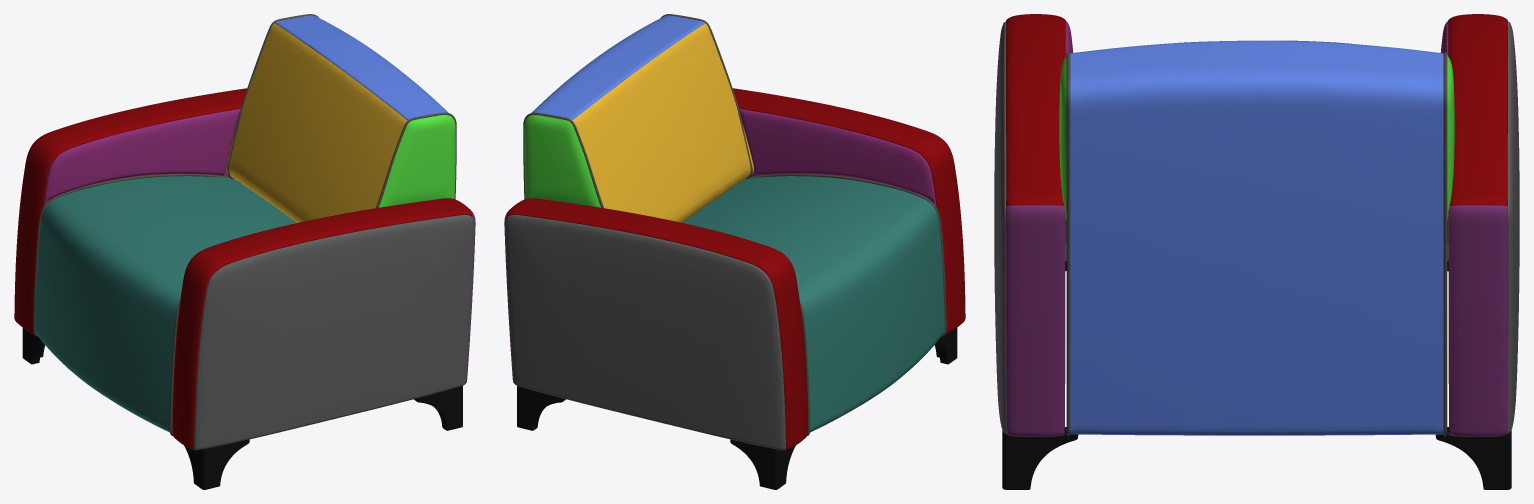
Rendered from base.v3.0adba33a.glb.
3 renders of one model, left to right at view 1: azimuth 30°, elevation 25°; view 2: azimuth 150°, elevation 25°; view 3: azimuth 270°, elevation 25°, orthographic. The views are drawn at different scales.
Parts seen in each view (by area): view 1: LATERAL_EXTERNA, ASSENTO, ENCOSTO_FRONTAL, LATERAL_TOP, LATERAL_INTERNA, ENCOSTO_TRASEIRO, ENCOSTO_LATERAL, PEZINHOS, VIVO_ASSENTO, VIVO_ENCOSTO; view 2: LATERAL_EXTERNA, ASSENTO, ENCOSTO_FRONTAL, LATERAL_TOP, LATERAL_INTERNA, ENCOSTO_TRASEIRO, ENCOSTO_LATERAL, PEZINHOS, VIVO_ASSENTO, VIVO_ENCOSTO; view 3: ENCOSTO_TRASEIRO, LATERAL_REAR, LATERAL_TOP, LATERAL_EXTERNA, PEZINHOS, VIVO_ENCOSTO, ENCOSTO_LATERAL.
Boxes of the visible parts, box(x1,y1,x2,y2) form: LATERAL_EXTERNA: box(194, 214, 474, 450); ASSENTO: box(35, 176, 296, 432); ENCOSTO_FRONTAL: box(226, 23, 407, 222); LATERAL_TOP: box(14, 88, 472, 449); LATERAL_INTERNA: box(43, 108, 240, 273); ENCOSTO_TRASEIRO: box(275, 15, 448, 120); ENCOSTO_LATERAL: box(379, 114, 455, 207); PEZINHOS: box(22, 328, 462, 489); VIVO_ASSENTO: box(33, 174, 229, 435); VIVO_ENCOSTO: box(227, 14, 456, 208); LATERAL_EXTERNA: box(505, 214, 785, 450); ASSENTO: box(683, 176, 944, 432); ENCOSTO_FRONTAL: box(572, 23, 753, 222); LATERAL_TOP: box(507, 88, 965, 449); LATERAL_INTERNA: box(739, 108, 936, 273); ENCOSTO_TRASEIRO: box(531, 15, 704, 120); ENCOSTO_LATERAL: box(524, 114, 600, 207); PEZINHOS: box(517, 328, 957, 489); VIVO_ASSENTO: box(750, 174, 946, 435); VIVO_ENCOSTO: box(523, 14, 752, 208); ENCOSTO_TRASEIRO: box(1070, 40, 1443, 435); LATERAL_REAR: box(1006, 205, 1507, 436); LATERAL_TOP: box(1006, 14, 1507, 206); LATERAL_EXTERNA: box(994, 21, 1519, 434); PEZINHOS: box(1002, 261, 1511, 489); VIVO_ENCOSTO: box(1066, 52, 1447, 436); ENCOSTO_LATERAL: box(1059, 55, 1454, 220).
Bounding box in the file's own units: 0.7623 × 0.7376 × 0.8244.
